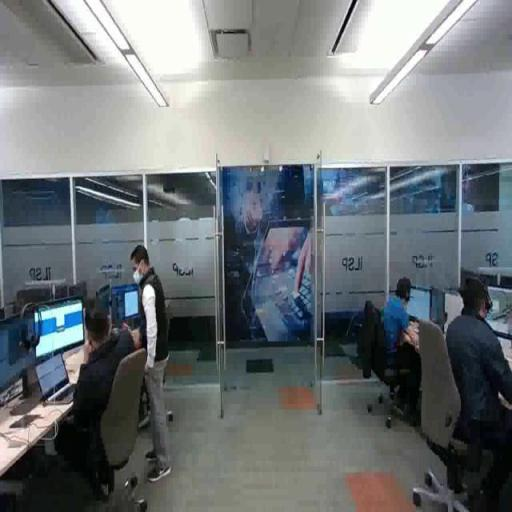person: (431, 277, 512, 501), (48, 297, 141, 478), (123, 239, 176, 484), (374, 275, 429, 417)
